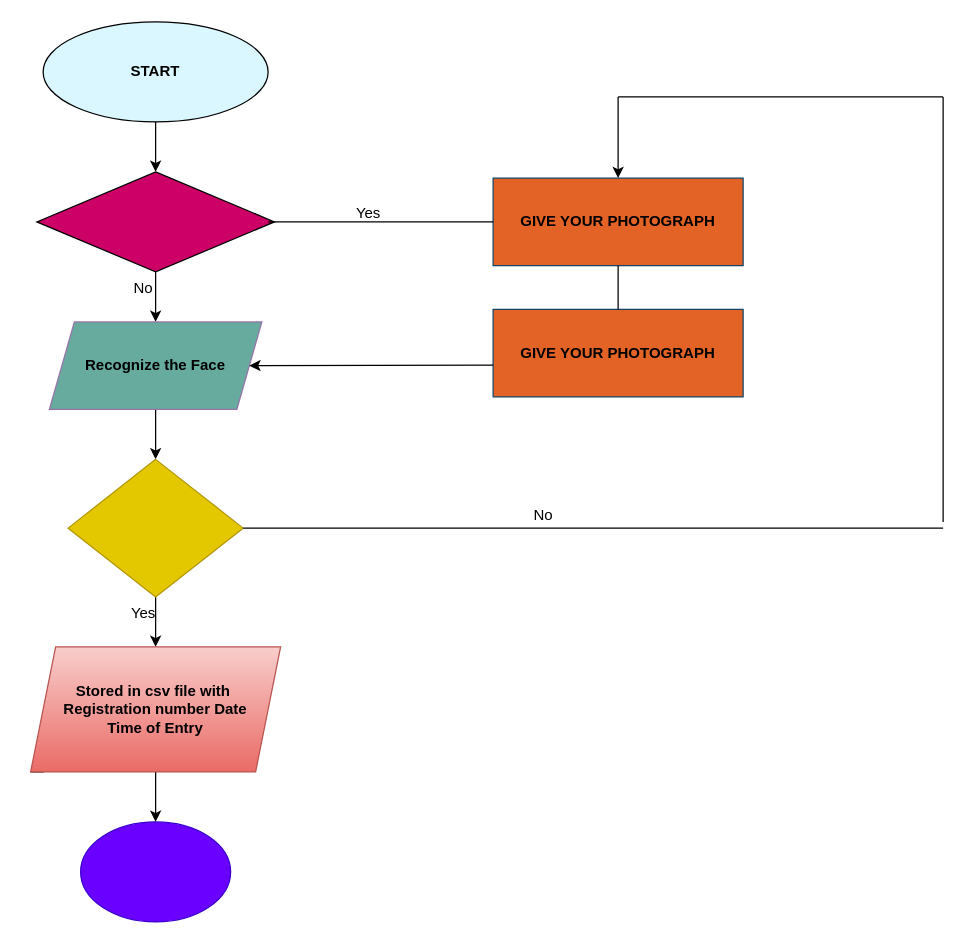
The diagram is 966 pixels wide and 944 high, and some of its shapes have lost their labels. The box of each missing label's shape, as (x1, y1, x2, y2) in pixels:
END: (79, 821, 231, 922)
Face Recognized: (67, 458, 243, 597)
NEW USER: (36, 171, 274, 272)
